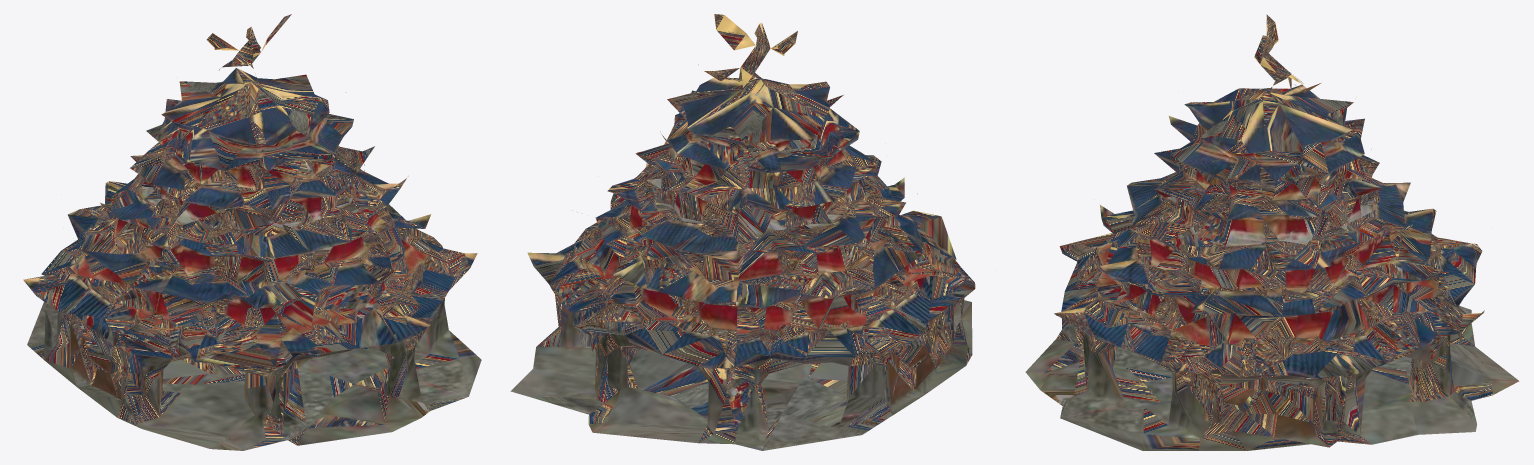
File: bq_pagoda.far.glb
3 views of the same model, side by side, from view 1: azimuth 30°, elevation 25°; view 2: azimuth 150°, elevation 25°; view 3: azimuth 270°, elevation 25° (orthographic).
Bounding box in the file's own units: 1.56 × 1.32 × 1.76.
1 material, 1 textured.
